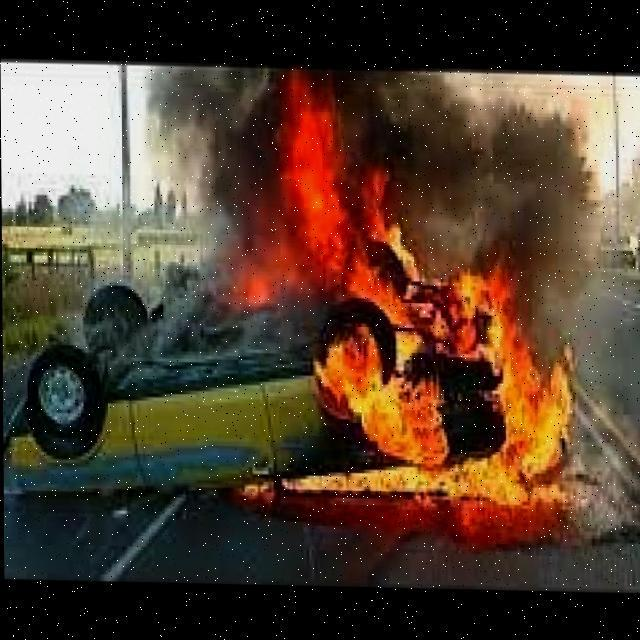single accident: (16, 276, 515, 494)
